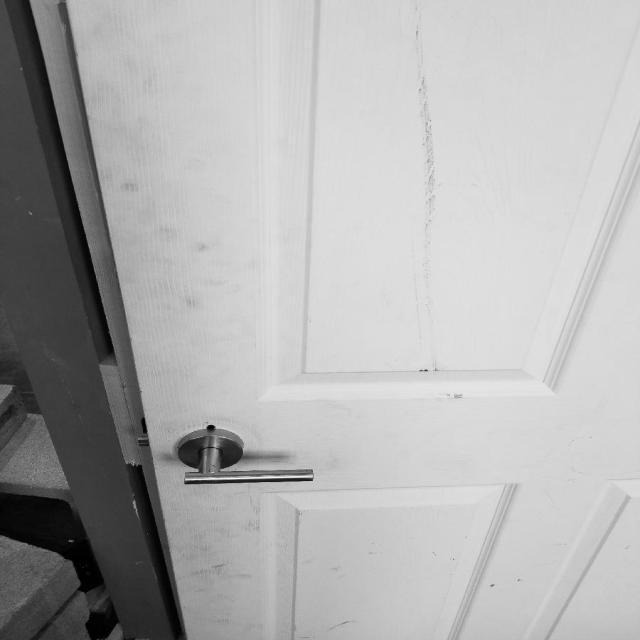door: (167, 422, 329, 494)
